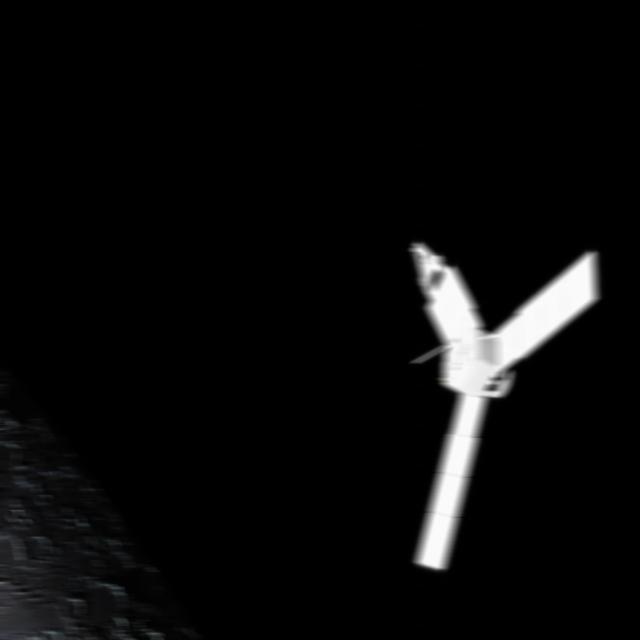satellite: (396, 228, 602, 580)
